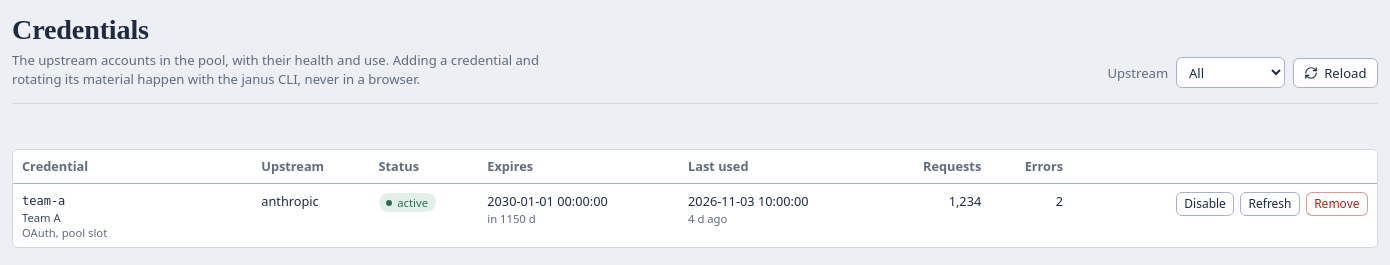
Test: Credentials view › refreshes a credential and shows the daemon’s error when a refresh fails
Click the button "Refresh" at (1270, 204), box x1=1240 y1=192 x2=1300 y2=216
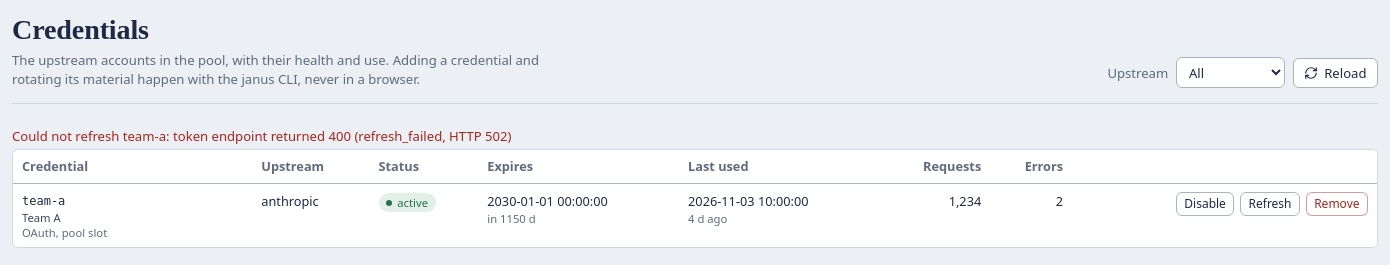
Now the message reads "Could not refresh team-a: token endpoint returned 400 (refresh_failed, HTTP 502)", box x1=12 y1=127 x2=512 y2=145
